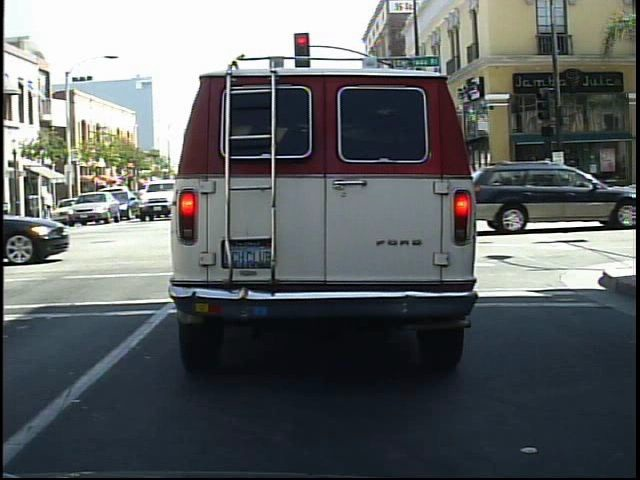person: (548, 146, 571, 209), (537, 154, 561, 212), (514, 157, 538, 211), (566, 157, 586, 208)
